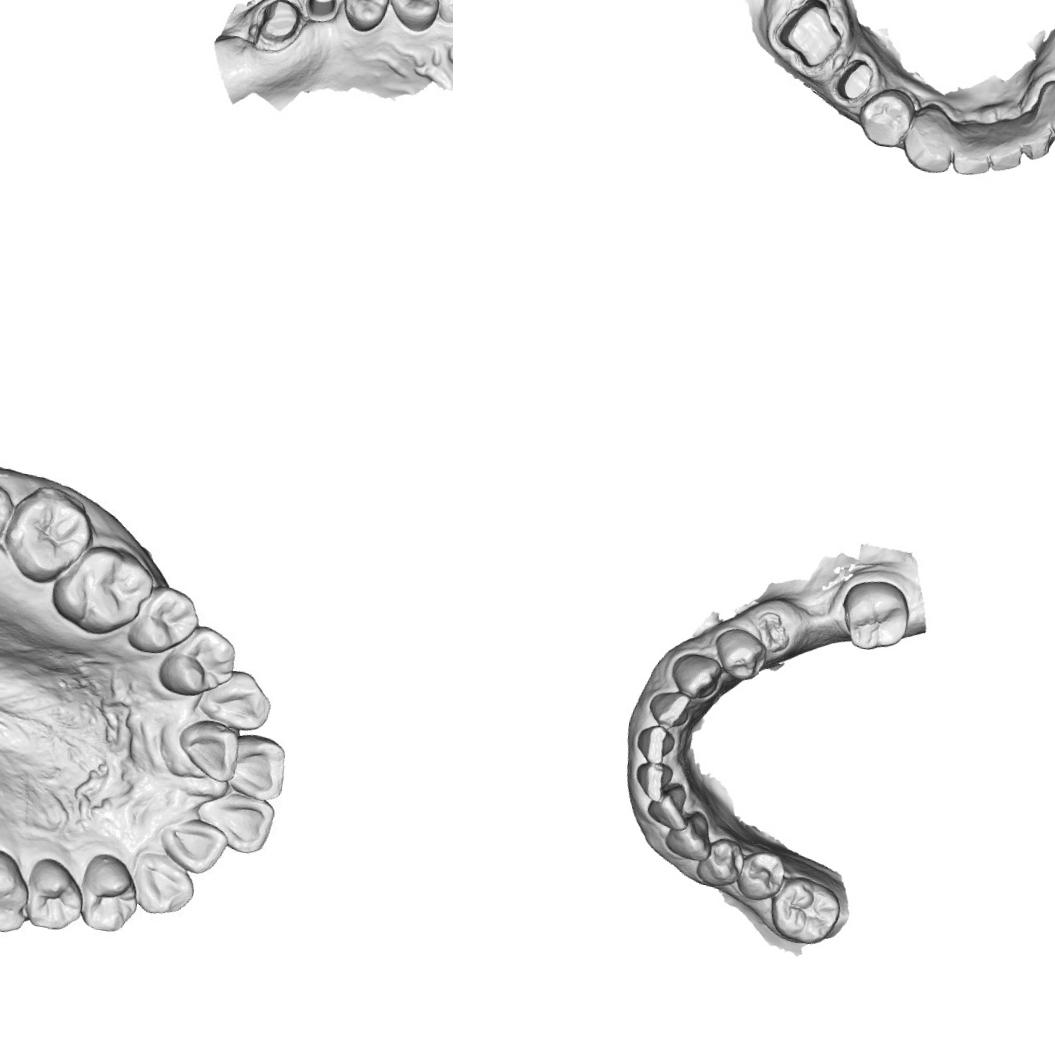abutment: (300, 0, 345, 25)
canine: (197, 663, 274, 743), (128, 848, 200, 917), (852, 82, 918, 152), (660, 806, 718, 864), (666, 648, 726, 704), (1032, 77, 1055, 148)
crown: (769, 0, 851, 79), (248, 0, 309, 57), (830, 51, 880, 108)
incisor: (175, 712, 246, 792), (196, 784, 278, 852), (898, 98, 960, 176), (155, 812, 230, 875), (230, 730, 292, 798), (950, 118, 998, 179), (980, 117, 1028, 176), (643, 779, 693, 833), (1012, 110, 1055, 163), (632, 721, 679, 769), (644, 686, 694, 730), (630, 756, 675, 804)
molar: (0, 482, 95, 587), (56, 541, 148, 639), (835, 572, 915, 658), (764, 870, 846, 950), (0, 841, 34, 936), (0, 474, 16, 554)
premolar: (124, 579, 200, 665), (163, 623, 239, 701), (18, 858, 90, 930), (78, 853, 141, 934), (707, 623, 772, 685), (693, 832, 749, 892), (734, 845, 788, 905), (382, 0, 445, 37), (333, 0, 395, 37)
